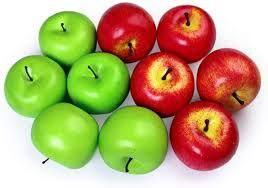Apple: (170, 102, 244, 170), (100, 106, 169, 175), (32, 102, 99, 168), (4, 54, 68, 118), (197, 48, 260, 110), (158, 1, 217, 63), (97, 2, 156, 63), (41, 9, 96, 67)
